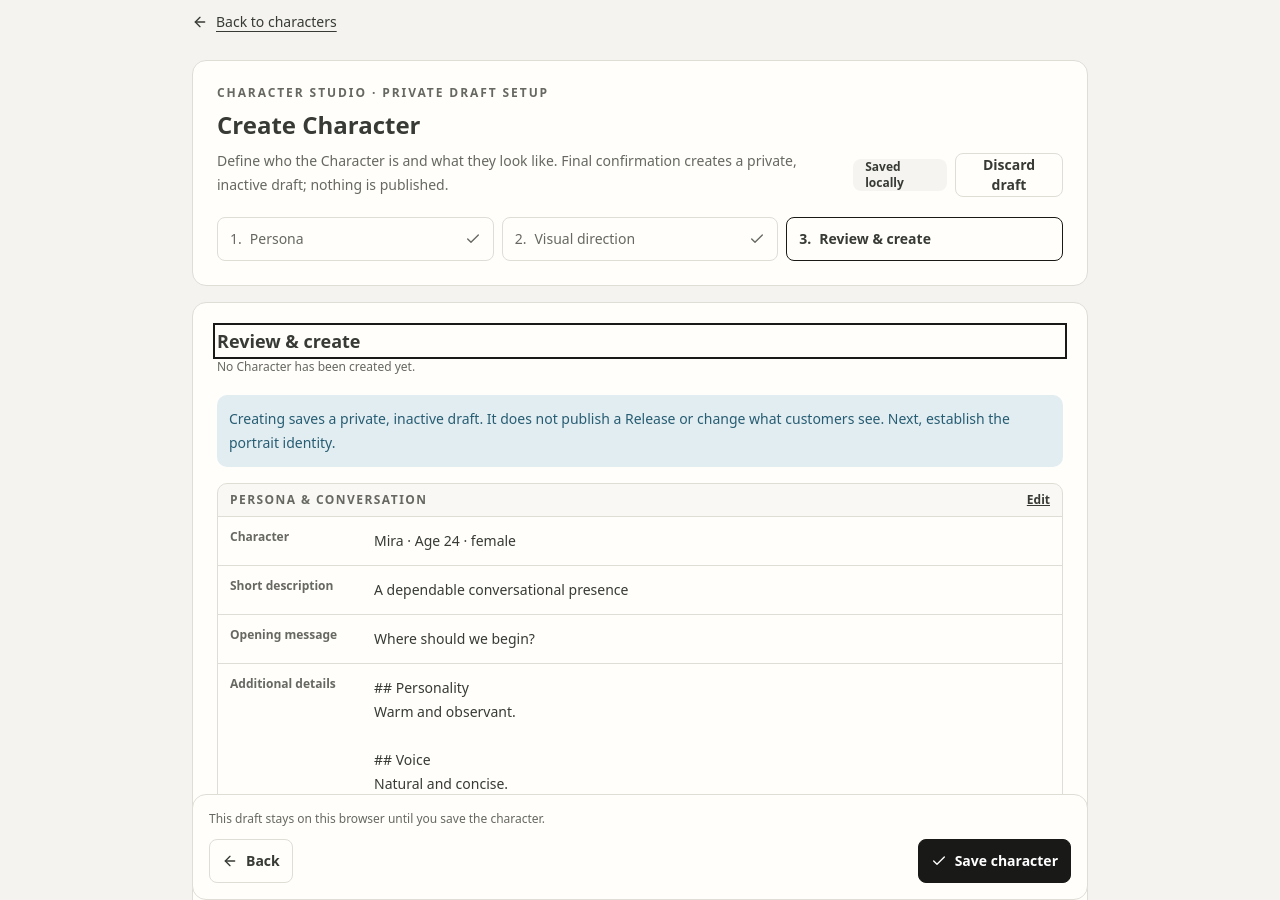
Scenario: Character create wizard restore authority › allows revisiting completed steps and keeps data without creating early
Click the button "1. Persona": click(277, 238) [217,217,494,261]
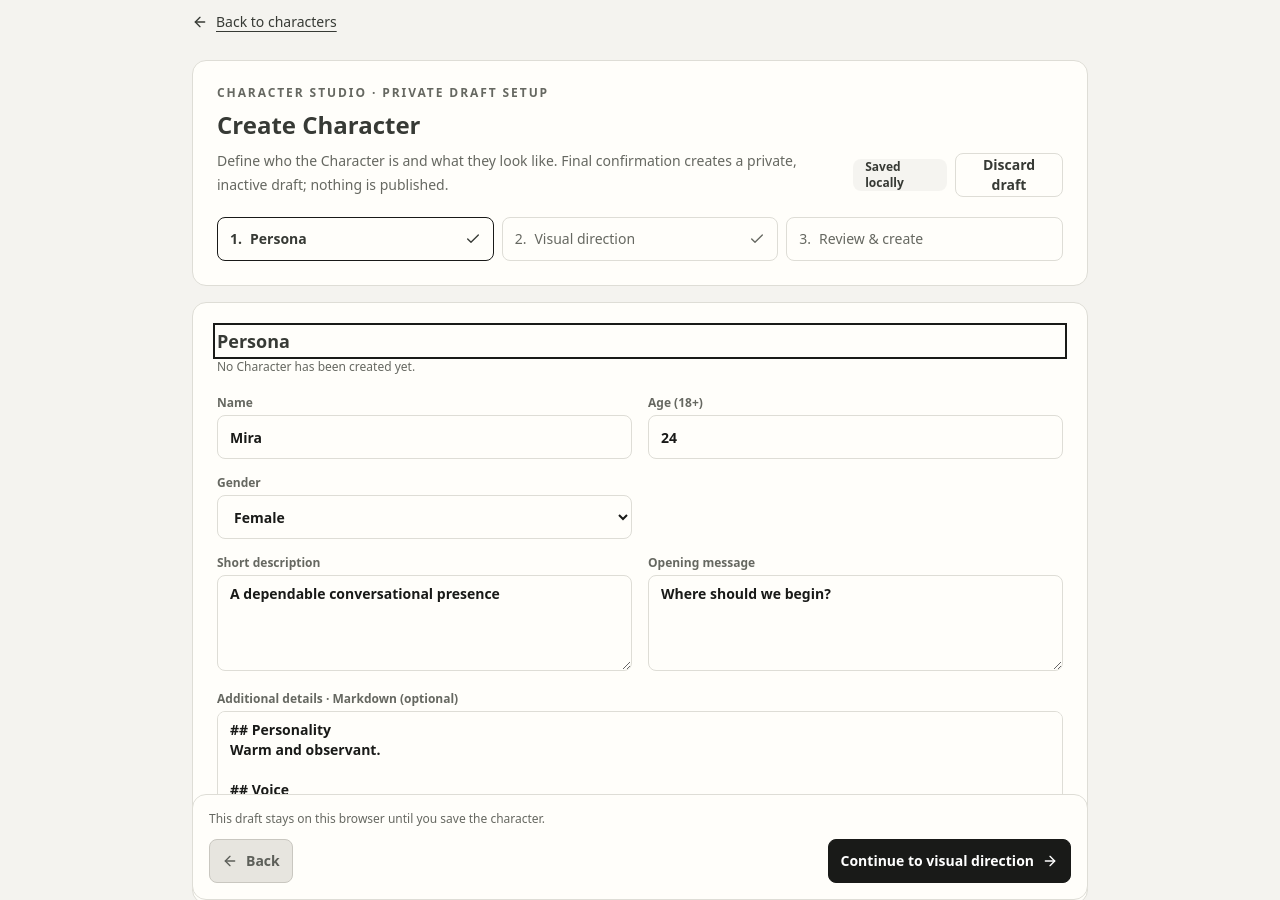
Check: the field named "persona.name" holds "Mira", box [217,415,632,459]
Click the button "2. Visual direction": click(585, 238) [502,217,778,261]
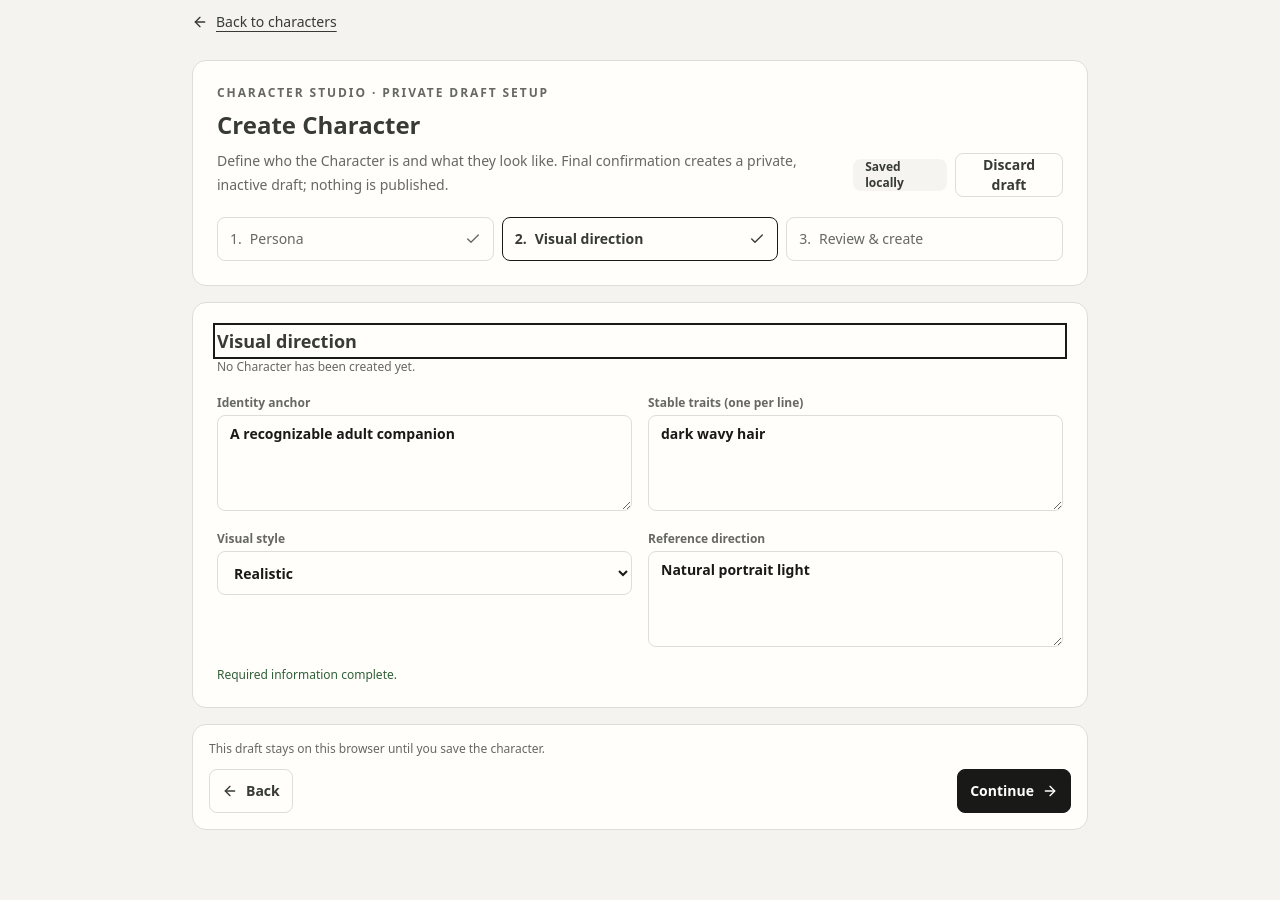
Check: the text box named "visualDirection.stableTraits" holds "dark wavy hair", box [648,415,1063,511]
